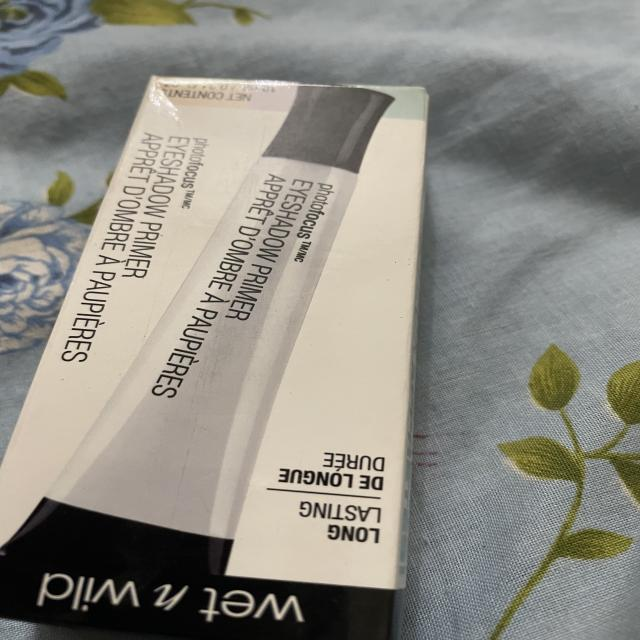eyelash curler: (0, 71, 511, 640)
